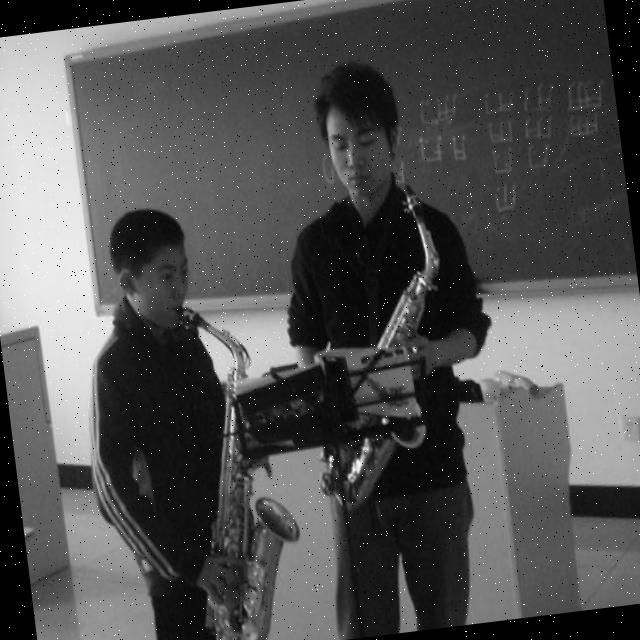saxophone: (282, 179, 472, 514), (166, 291, 315, 640)
